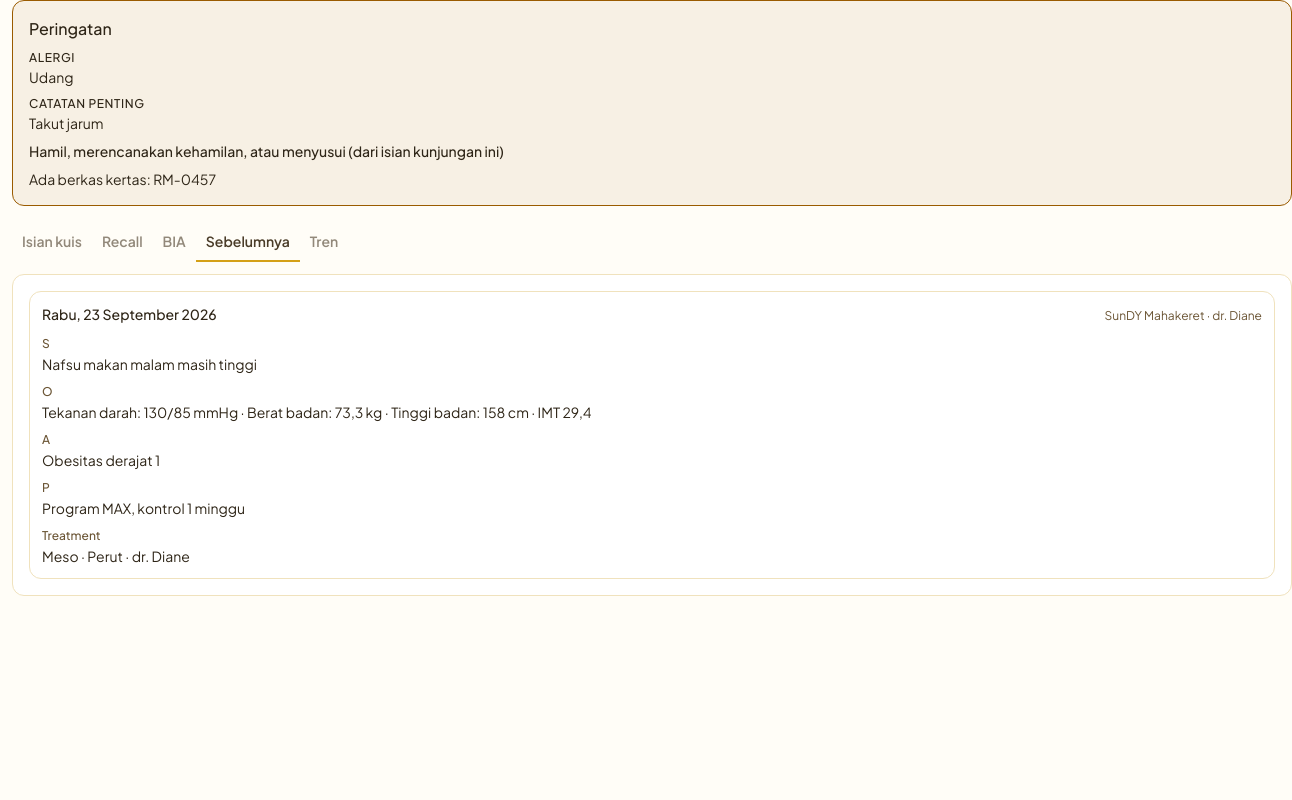
Test: EncounterContextPanel › tab Tren: baris Kunjungan ini memakai angka formulir, dengan selisih dan total
Click the tab "Tren" at (324, 242), box [300, 222, 348, 262]
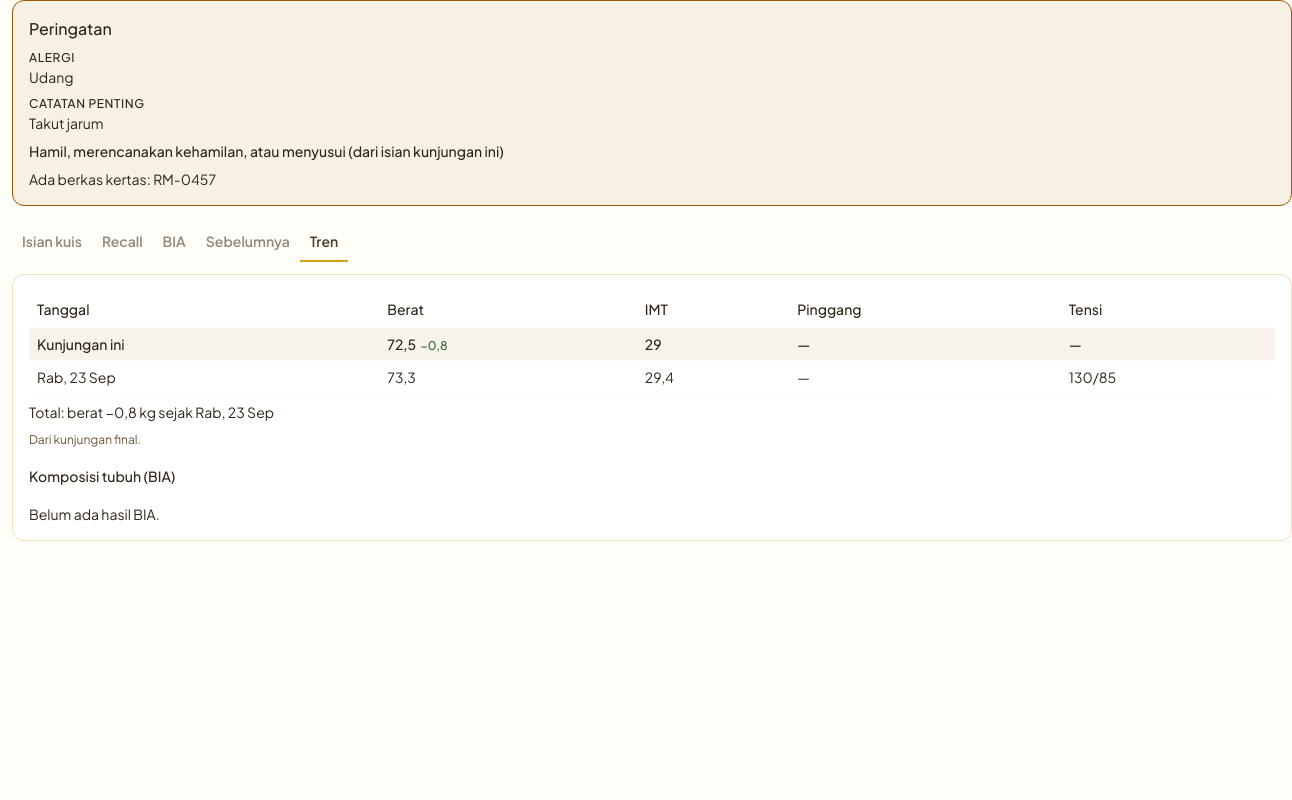
expect the row "Kunjungan ini 72,5−0,8 29 — —" is shown: met, box [29, 328, 1275, 361]
expect the row "Rab, 23 Sep 73,3 29,4 — 130/85" is shown: met, box [29, 361, 1275, 394]
expect the text "Total: berat −0,8 kg sejak Rab, 23 Sep" is shown: met, box [29, 403, 274, 421]
